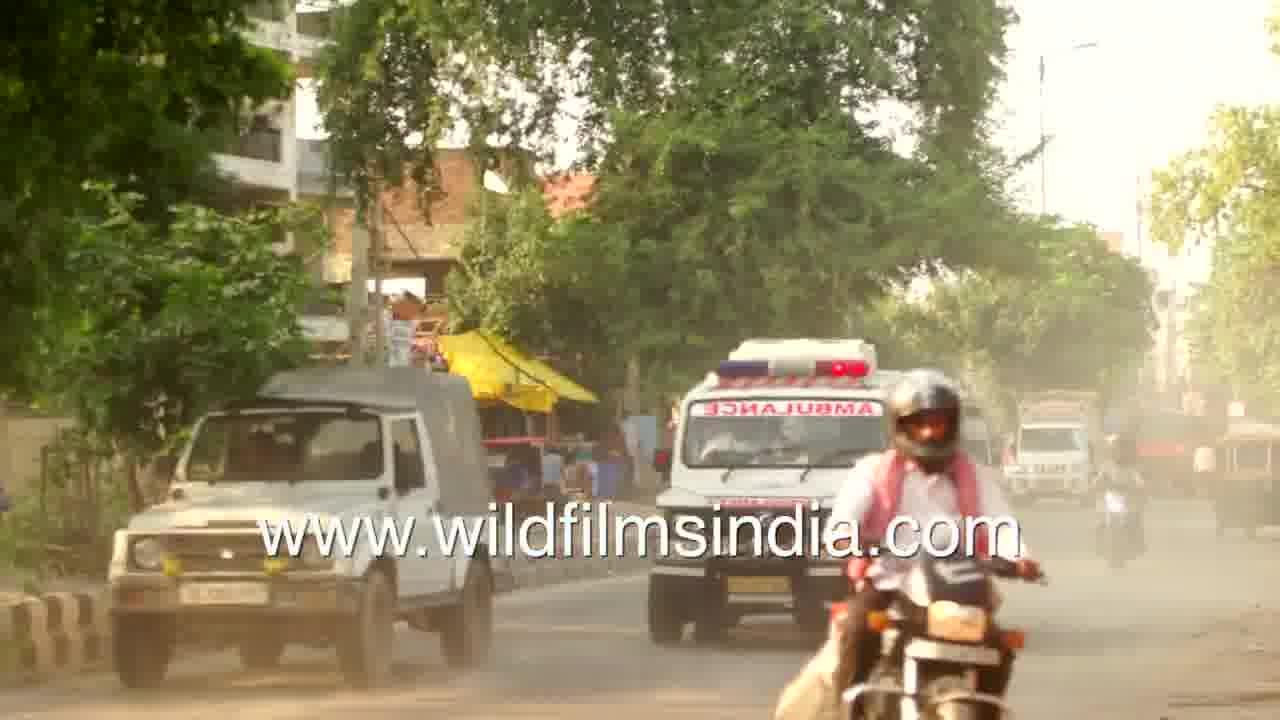AMBULANCE: (647, 318, 940, 503)
